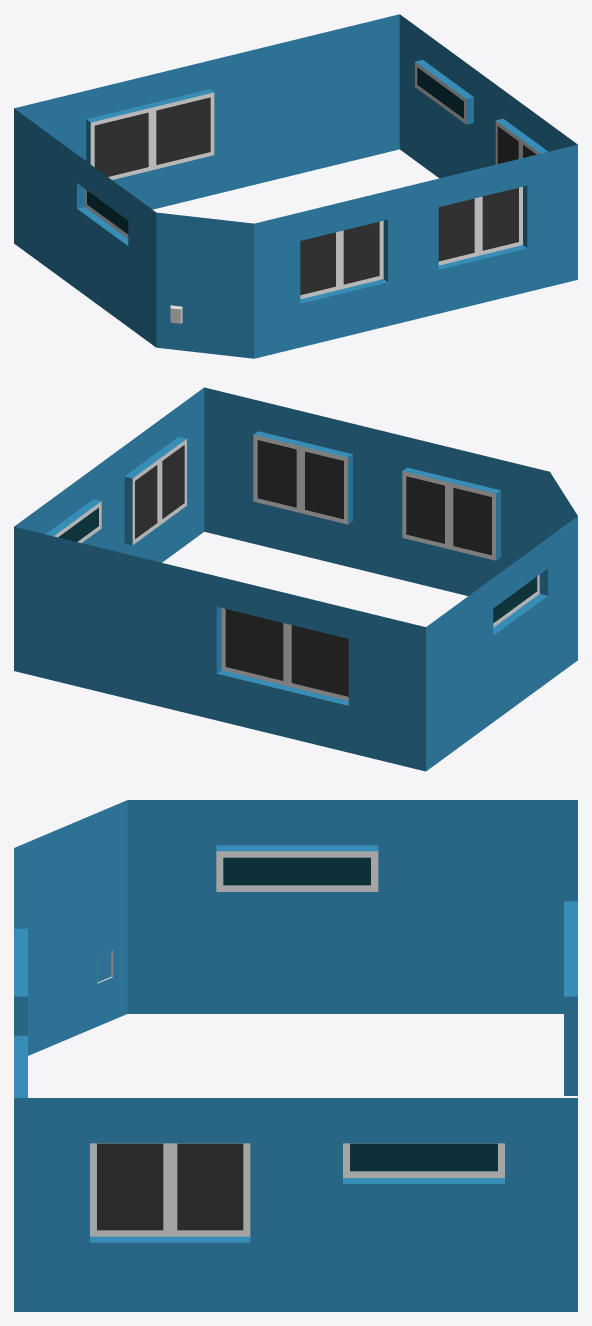
Rendered from building5_middle.fbx.
3 views of the same model, one above another, from view 1: azimuth 30°, elevation 25°; view 2: azimuth 150°, elevation 25°; view 3: azimuth 270°, elevation 25° (orthographic). The views are drawn at different scales.
Visible parts, largest first — view 1: building5_middle; view 2: building5_middle; view 3: building5_middle.
Boxes of the visible parts, box(x1,y1,x2,y2) form: building5_middle: box(14, 14, 577, 358); building5_middle: box(14, 387, 577, 771); building5_middle: box(14, 800, 577, 1311).
Size of the model in its own units: 747 by 597 by 250.
